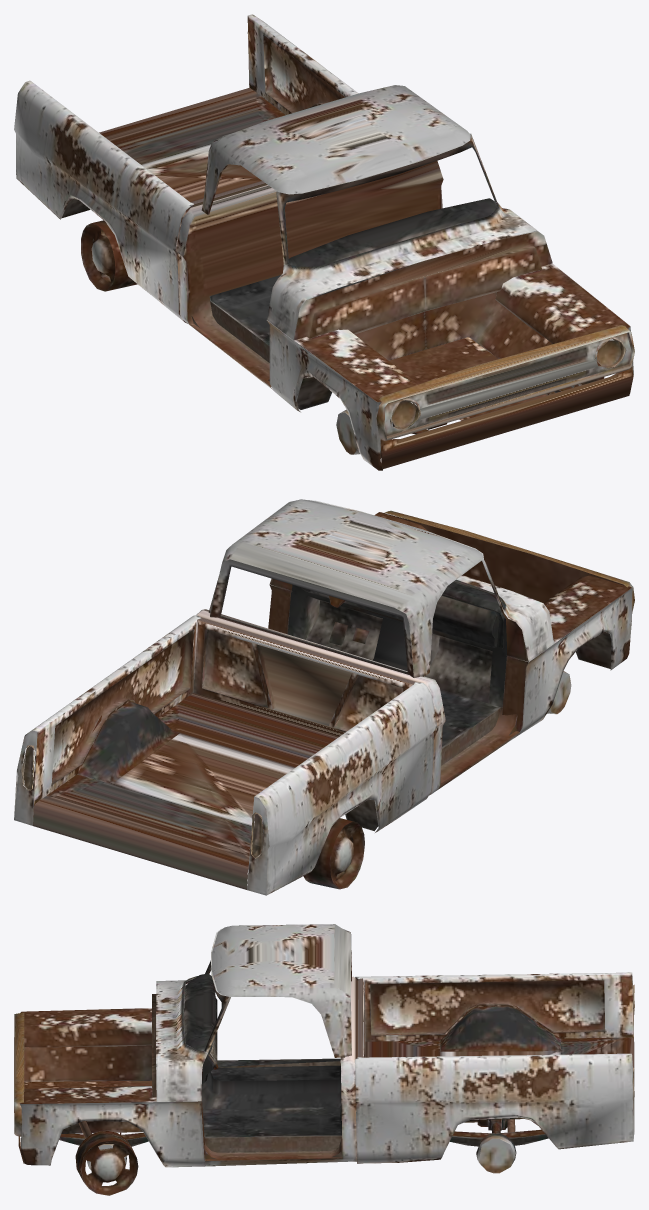
File: pickup_truck_c_red.glb
3 renders of one model, top to bottom at view 1: azimuth 30°, elevation 25°; view 2: azimuth 150°, elevation 25°; view 3: azimuth 270°, elevation 25°, orthographic. The views are drawn at different scales.
Visible parts, largest first — view 1: pickup_truck_c_LOD0; view 2: pickup_truck_c_LOD0; view 3: pickup_truck_c_LOD0.
Boxes of the visible parts, bbox=[...] form: pickup_truck_c_LOD0: bbox=[14, 14, 634, 470]; pickup_truck_c_LOD0: bbox=[14, 499, 634, 895]; pickup_truck_c_LOD0: bbox=[14, 924, 634, 1195].
Bounding box in the file's own units: 2.43 × 1.97 × 5.78.
1 material, 1 textured.
